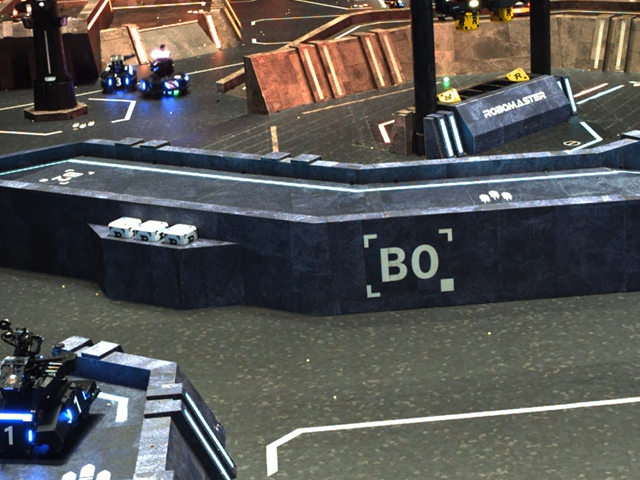rm: (2, 319, 101, 467), (146, 58, 189, 97), (98, 54, 137, 93)
